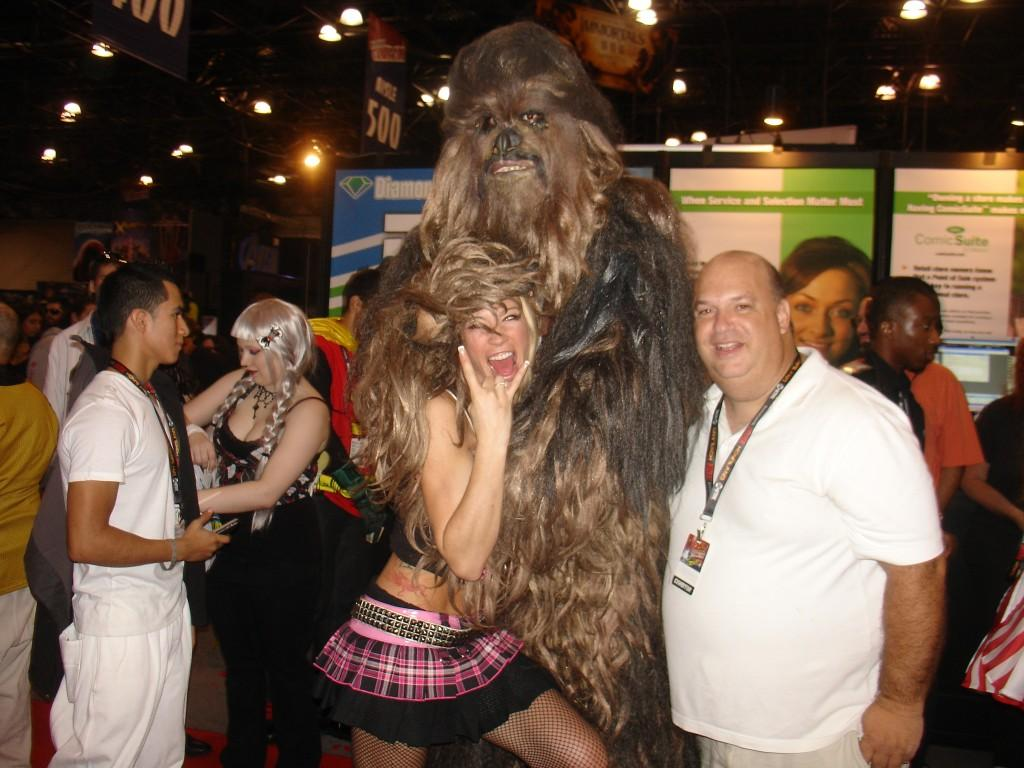face: (693, 269, 779, 379), (786, 263, 862, 367), (461, 297, 532, 394), (890, 294, 944, 372), (144, 287, 189, 364), (238, 332, 281, 386), (95, 263, 123, 301), (22, 311, 42, 337), (45, 303, 64, 327), (177, 328, 193, 351), (202, 340, 216, 362)
